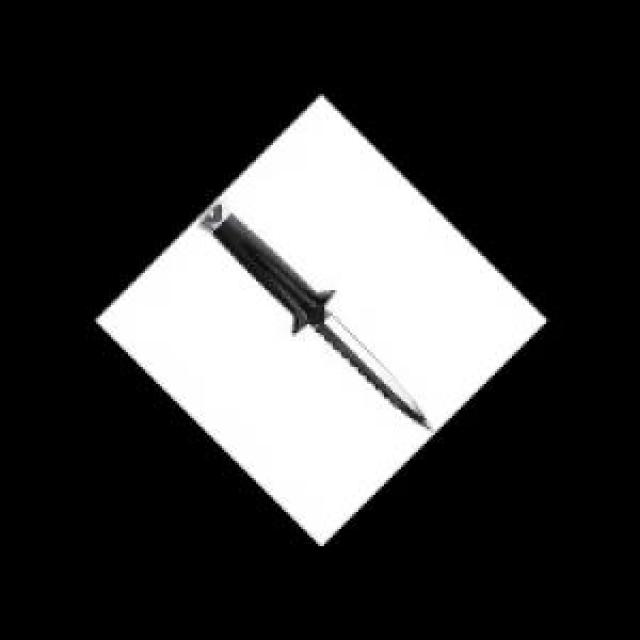knife: (205, 192, 430, 431)
